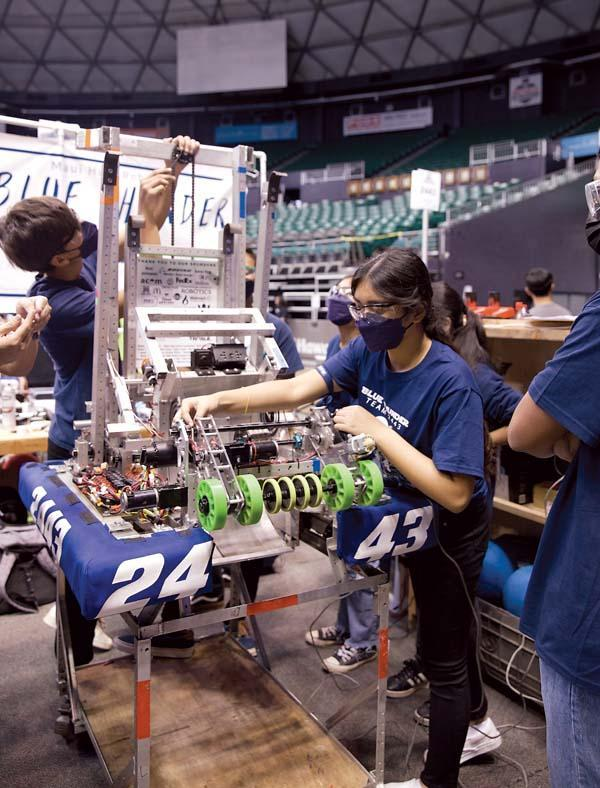robot: (14, 123, 447, 627)
